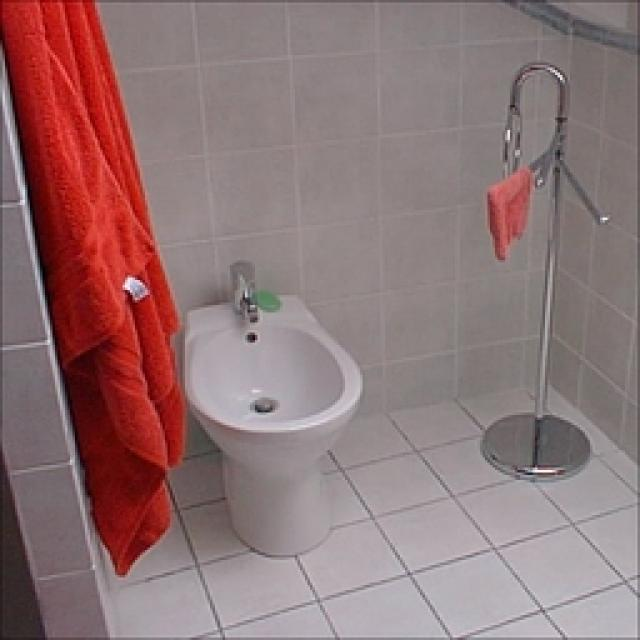soap bottle: (250, 285, 278, 310)
